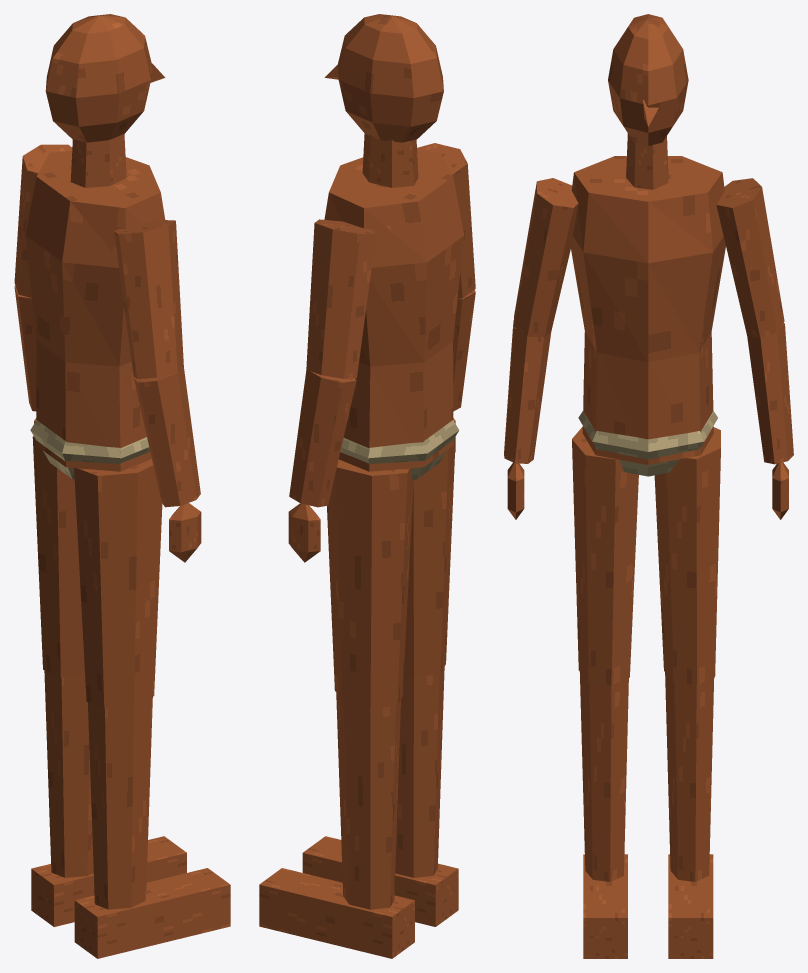
File: cuerpo_comun.glb
The picture shows the model from 3 angles, left to right: view 1: azimuth 30°, elevation 25°; view 2: azimuth 150°, elevation 25°; view 3: azimuth 270°, elevation 25°; orthographic projection.
Visible parts, largest first — view 1: torso, muslo_der, pierna_der, cabeza, muslo_izq, brazo_der, pie_der, pierna_izq, antebrazo_der, pie_izq, cuello, pelvis (+3 smaller); view 2: torso, muslo_izq, pierna_izq, cabeza, brazo_izq, muslo_der, pie_izq, pierna_der, antebrazo_izq, pie_der, cuello, pelvis (+3 smaller); view 3: torso, muslo_der, muslo_izq, pierna_der, pierna_izq, cabeza, brazo_izq, brazo_der, antebrazo_izq, antebrazo_der, pie_izq, pie_der (+4 smaller).
Part boxes in pixels (x1,y1,x2,y2): torso: (25, 150, 165, 471); muslo_der: (74, 459, 162, 708); pierna_der: (88, 697, 152, 909); cabeza: (45, 14, 165, 142); muslo_izq: (32, 436, 84, 676); brazo_der: (114, 220, 183, 379); pie_der: (74, 868, 230, 958); pierna_izq: (44, 670, 93, 877); antebrazo_der: (133, 367, 200, 507); pie_izq: (31, 836, 186, 926); cuello: (70, 133, 126, 187); pelvis: (30, 420, 150, 479); torso: (324, 150, 464, 471); muslo_izq: (327, 459, 413, 708); pierna_izq: (336, 693, 400, 909); cabeza: (324, 14, 443, 142); brazo_izq: (306, 219, 376, 378); muslo_der: (403, 437, 455, 676); pie_izq: (259, 868, 414, 958); pierna_der: (395, 667, 444, 877); antebrazo_izq: (289, 369, 356, 507); pie_der: (302, 836, 458, 926); cuello: (362, 133, 418, 187); pelvis: (340, 420, 459, 479); torso: (571, 156, 725, 464); muslo_der: (572, 427, 638, 685); muslo_izq: (654, 427, 720, 685); pierna_der: (580, 672, 628, 881); pierna_izq: (665, 672, 714, 881); cabeza: (608, 14, 688, 145); brazo_izq: (716, 178, 784, 337); brazo_der: (514, 178, 578, 337); antebrazo_izq: (747, 323, 793, 464); antebrazo_der: (504, 320, 551, 463); pie_izq: (668, 854, 713, 958); pie_der: (583, 854, 627, 958).
Bounding box in the file's own units: 0.3 × 1.7 × 0.5.
1 material, 1 textured.
